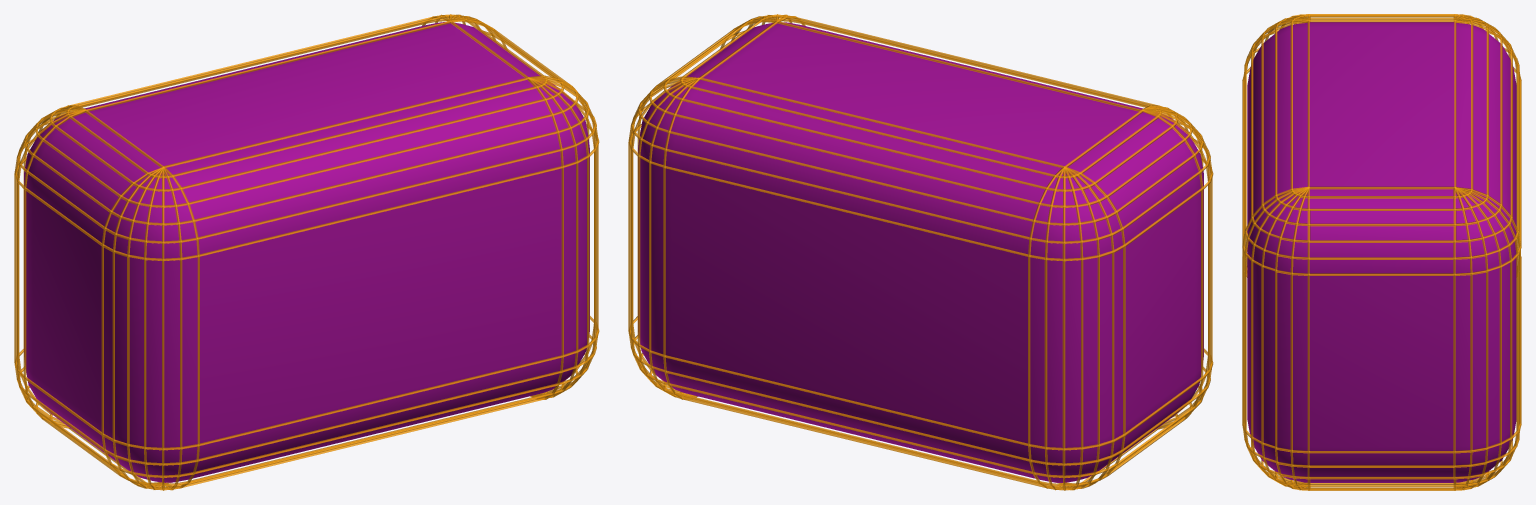
File: Bullet_CyberCop20XX.fbx
3 views of the same model, side by side, from view 1: azimuth 30°, elevation 25°; view 2: azimuth 150°, elevation 25°; view 3: azimuth 270°, elevation 25° (orthographic). The views are drawn at different scales.
Visible parts, largest first — view 1: Cube_1, Cube; view 2: Cube_1, Cube; view 3: Cube_1, Cube.
Boxes of the visible parts, x1,y1,x2,y2 form: Cube_1: (24,22,589,482); Cube: (14,14,599,490); Cube_1: (638,22,1203,482); Cube: (628,14,1213,490); Cube_1: (1247,22,1516,482); Cube: (1242,14,1521,490).
Bounding box in the file's own units: 104 × 64.98 × 55.16.
